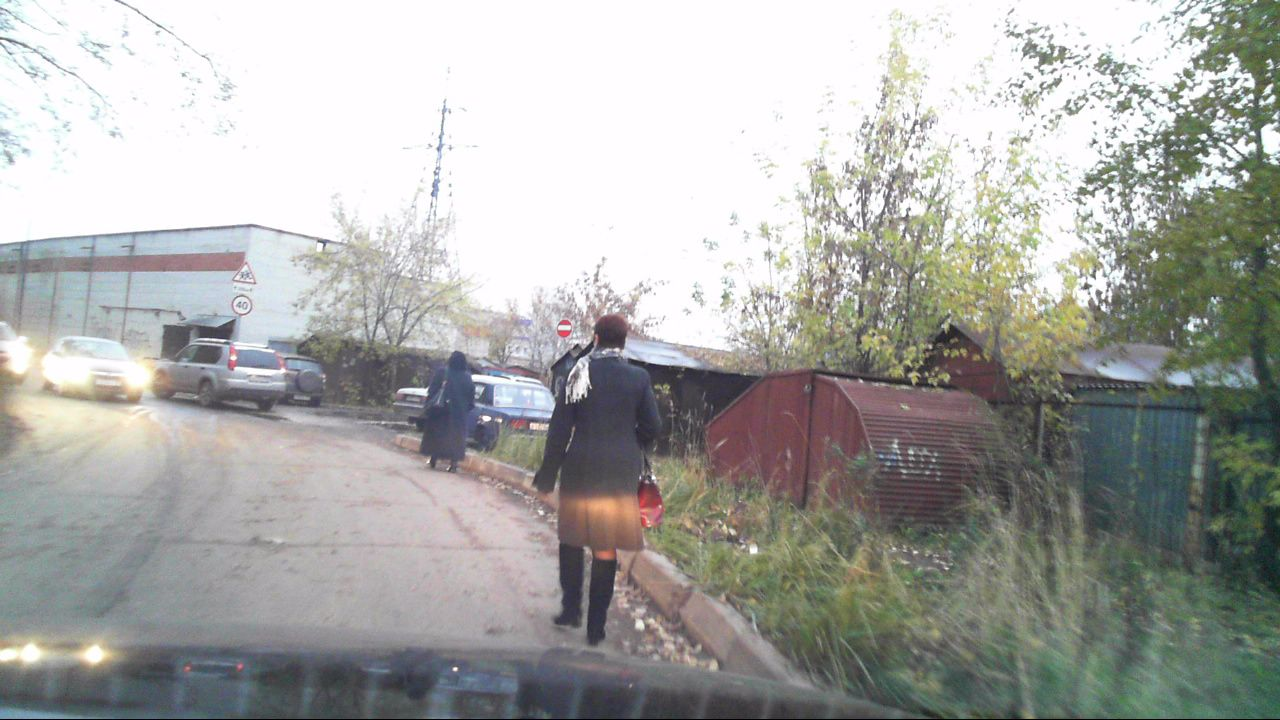speed_warning_40: (233, 295, 252, 314)
